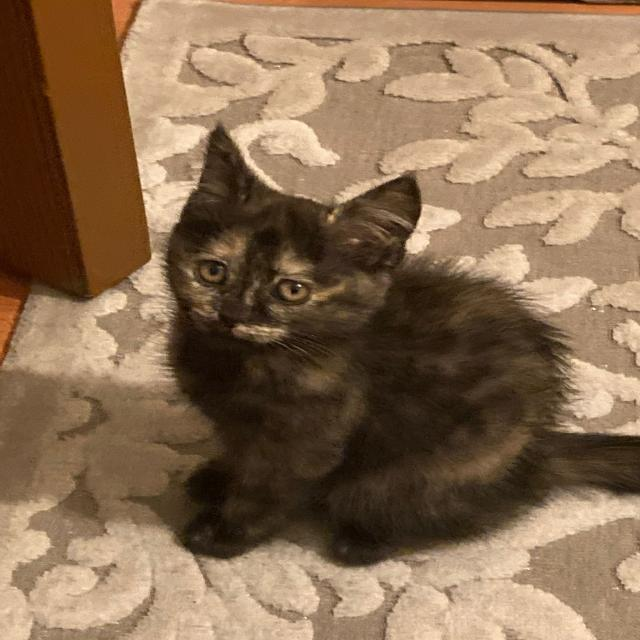authorized: (164, 122, 638, 566)
